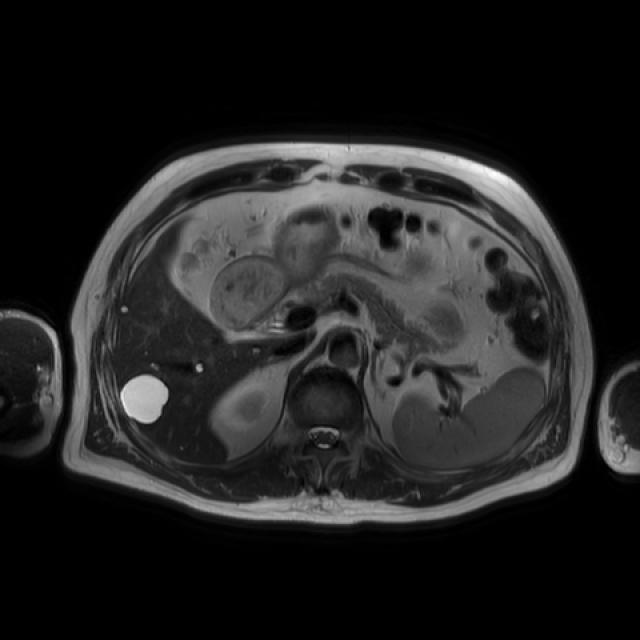sag: (237, 391, 261, 419)
